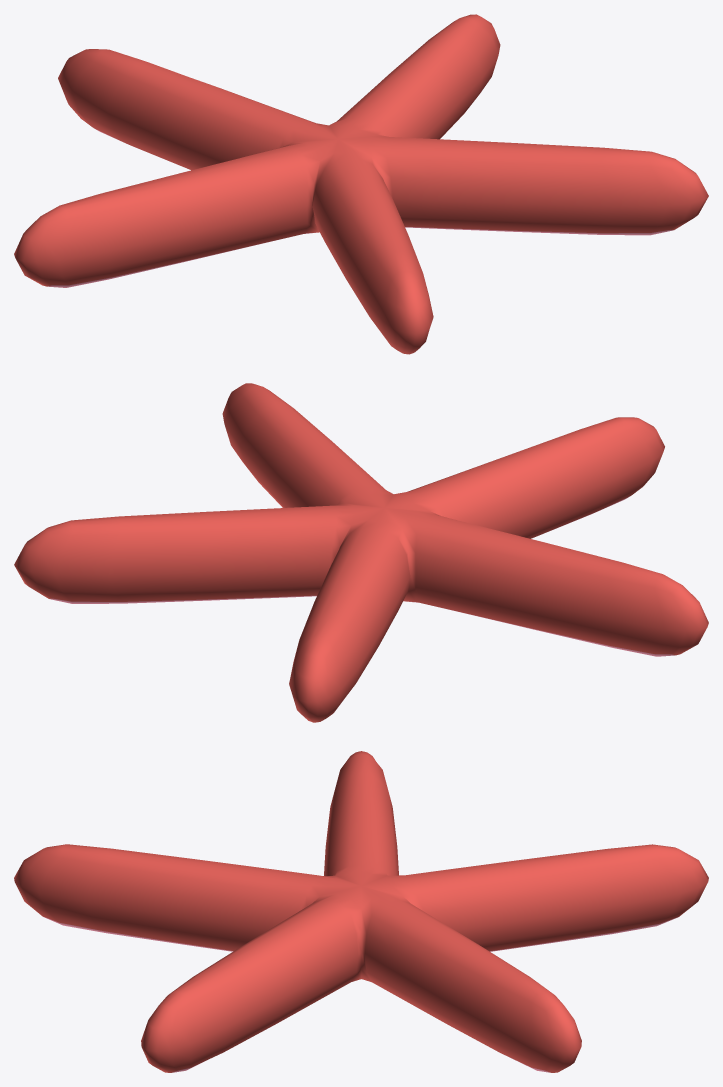
File: Starfish_03.fbx
3 renders of one model, top to bottom at view 1: azimuth 30°, elevation 25°; view 2: azimuth 150°, elevation 25°; view 3: azimuth 270°, elevation 25°, orthographic. The views are drawn at different scales.
Visible parts, largest first — view 1: Starfish_03_LOD0; view 2: Starfish_03_LOD0; view 3: Starfish_03_LOD0.
Boxes of the visible parts, x1,y1,x2,y2 form: Starfish_03_LOD0: (14,14,708,354); Starfish_03_LOD0: (14,383,708,722); Starfish_03_LOD0: (14,751,708,1072).
Size of what is drawn, in the model's own units: 484 by 64 by 508.
